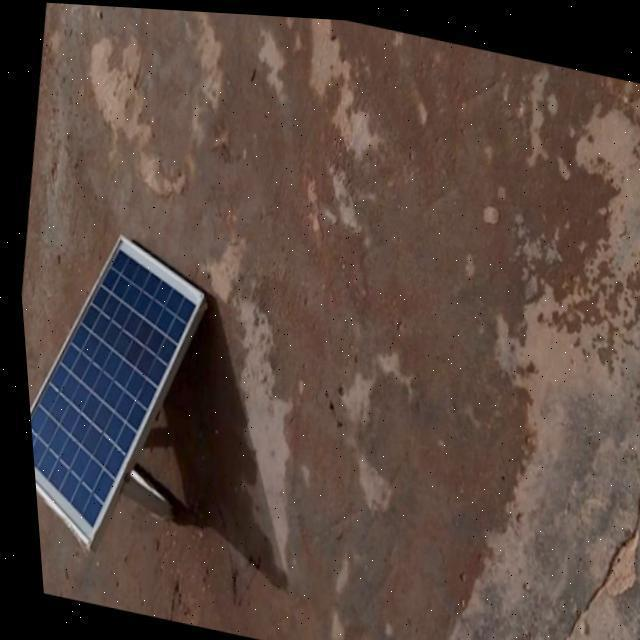Normal Solar Panel: (12, 215, 222, 569)
